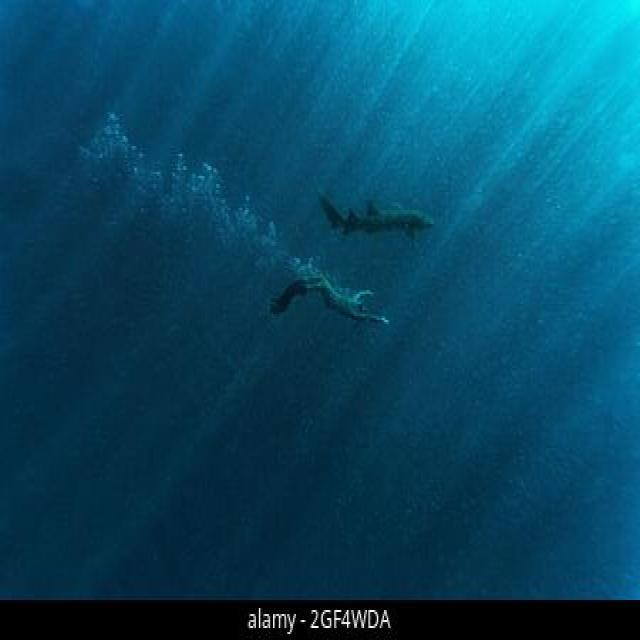Shark: (298, 148, 452, 252)
